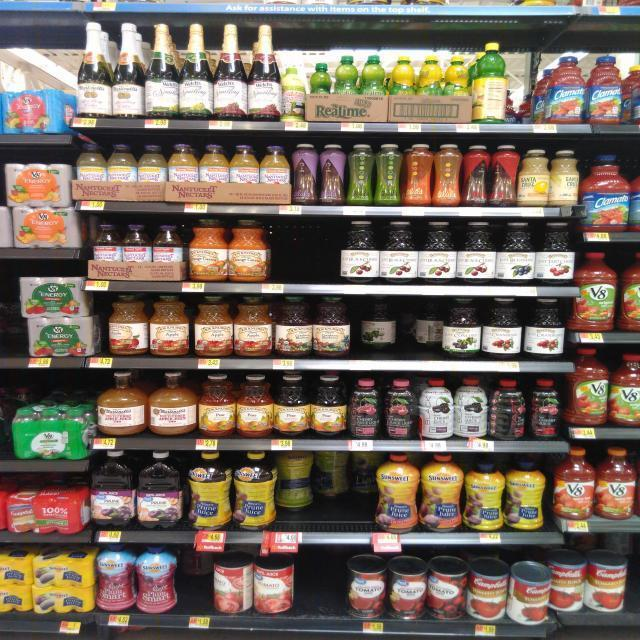Imprecise: (276, 450, 379, 525), (350, 297, 444, 362), (173, 546, 216, 614)
